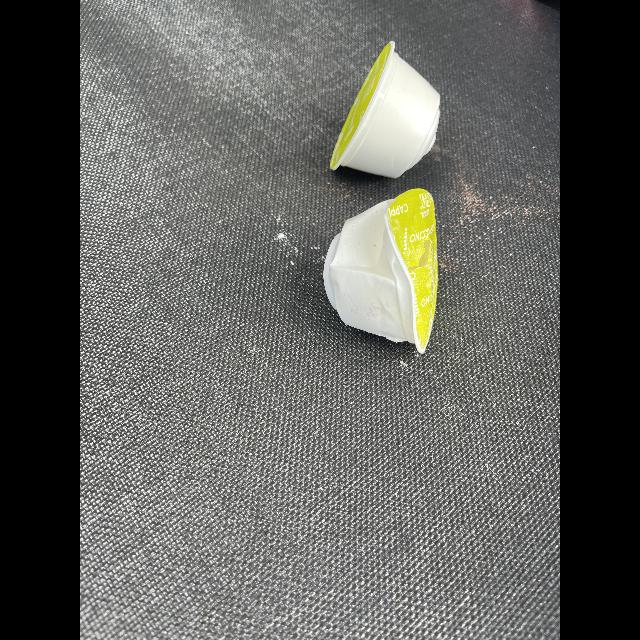damaged_capsule: (314, 182, 448, 360)
intact_capsule: (320, 28, 460, 180)
